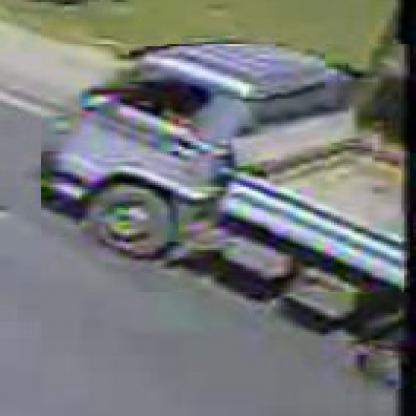truck: (42, 45, 414, 344)
